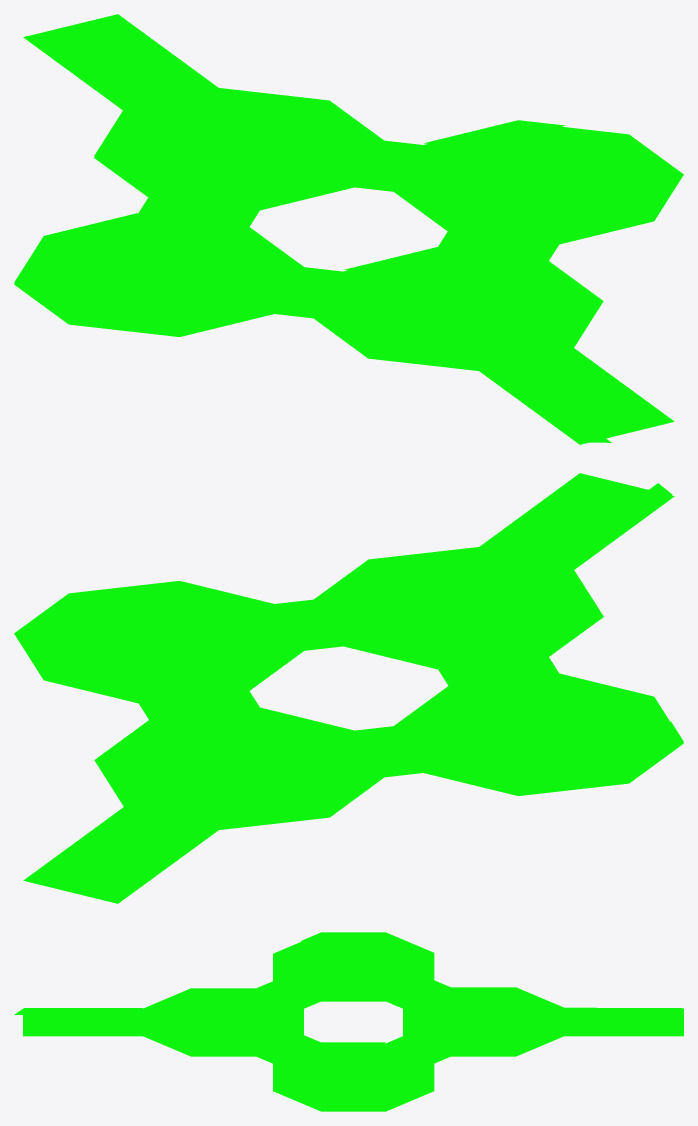
The model's file is s07a_ga1-floor.glb.
3 views of the same model, one above another, from view 1: azimuth 30°, elevation 25°; view 2: azimuth 150°, elevation 25°; view 3: azimuth 270°, elevation 25° (orthographic). The views are drawn at different scales.
Parts seen in each view (by area): view 1: collision_floor-colonly; view 2: collision_floor-colonly; view 3: collision_floor-colonly.
Part boxes in pixels (<box>): collision_floor-colonly: <box>14,14,683,444</box>; collision_floor-colonly: <box>14,473,683,903</box>; collision_floor-colonly: <box>14,932,683,1111</box>.
Bounding box in the file's own units: 38.86 × 0.0996 × 61.77.
